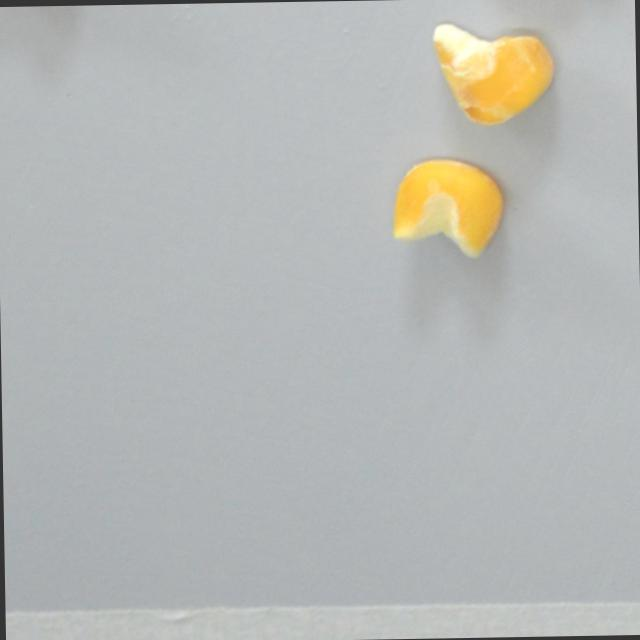no_canjicado: (390, 155, 505, 261)
pelicula: (430, 16, 558, 128)
